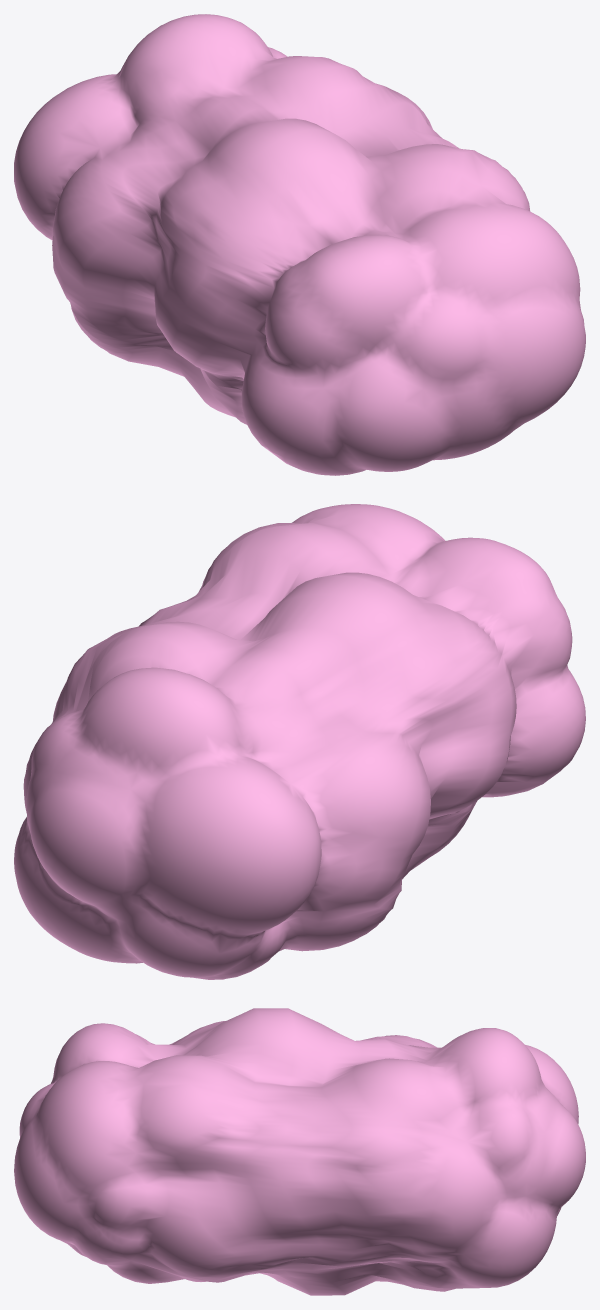
File: cloud6.fbx
3 renders of one model, top to bottom at view 1: azimuth 30°, elevation 25°; view 2: azimuth 150°, elevation 25°; view 3: azimuth 270°, elevation 25°, orthographic. The views are drawn at different scales.
Visible parts, largest first — view 1: cloud6; view 2: cloud6; view 3: cloud6.
Part boxes in pixels (x1,y1,x2,y2): cloud6: (14,14,585,475); cloud6: (14,504,585,979); cloud6: (14,1008,585,1295).
Bounding box in the file's own units: 1317 × 1096 × 2270.
